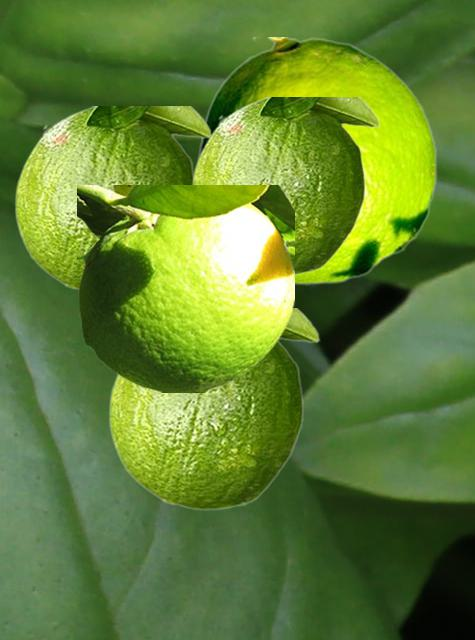dalandan: (196, 37, 436, 284), (77, 185, 293, 391), (108, 308, 319, 509), (14, 106, 211, 292), (191, 97, 379, 275)
